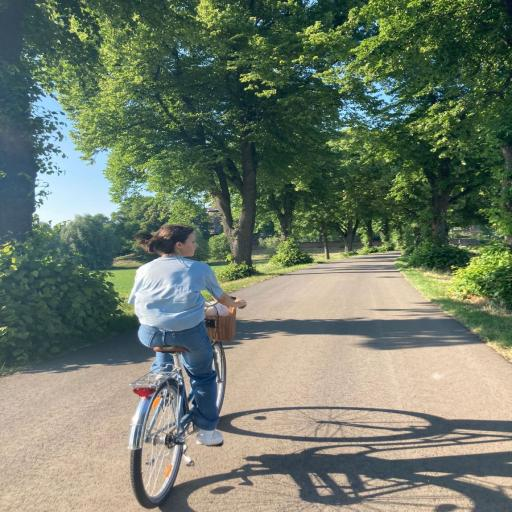bag: (129, 297, 236, 509)
crosswalk: (128, 224, 246, 447)
glass_wall: (0, 252, 512, 512)
